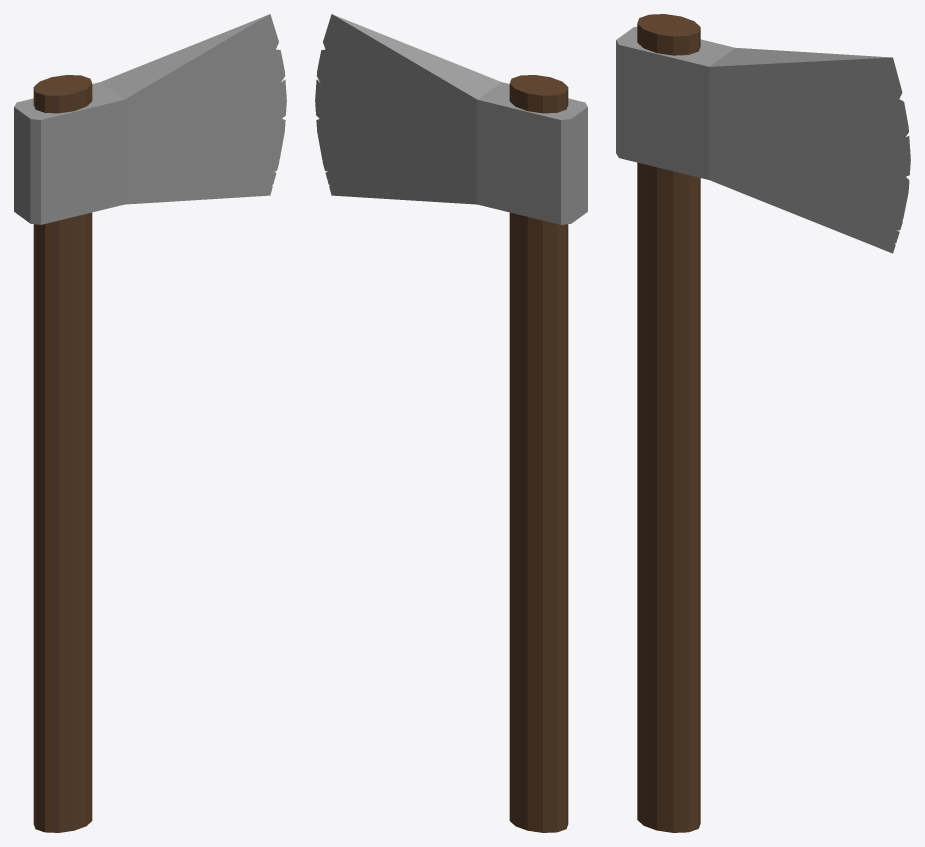
File: Axe.fbx
The picture shows the model from 3 angles, left to right: view 1: azimuth 30°, elevation 25°; view 2: azimuth 150°, elevation 25°; view 3: azimuth 330°, elevation 25°; orthographic projection. The views are drawn at different scales.
Visible parts, largest first — view 1: Куб; view 2: Куб; view 3: Куб.
Part boxes in pixels (left/top/right/bottom): Куб: left=14, top=14, right=286, bottom=832; Куб: left=315, top=14, right=587, bottom=832; Куб: left=616, top=14, right=910, bottom=832.
Bounding box in the file's own units: 56.1 × 154 × 8.86.
